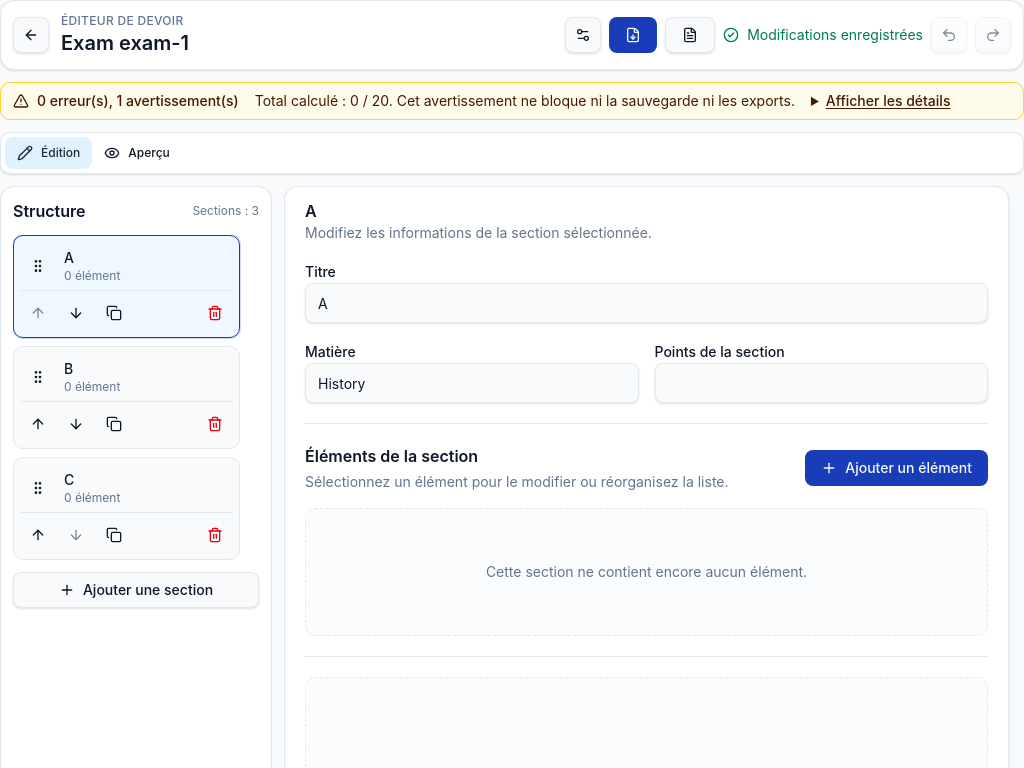
ExamBuilderPage › duplicates a section and keeps its title
Expected: the heading "Exam exam-1" is shown, [61,29,189,57]
Click the button named "Dupliquer A" at (114, 313), box [96,295,132,331]
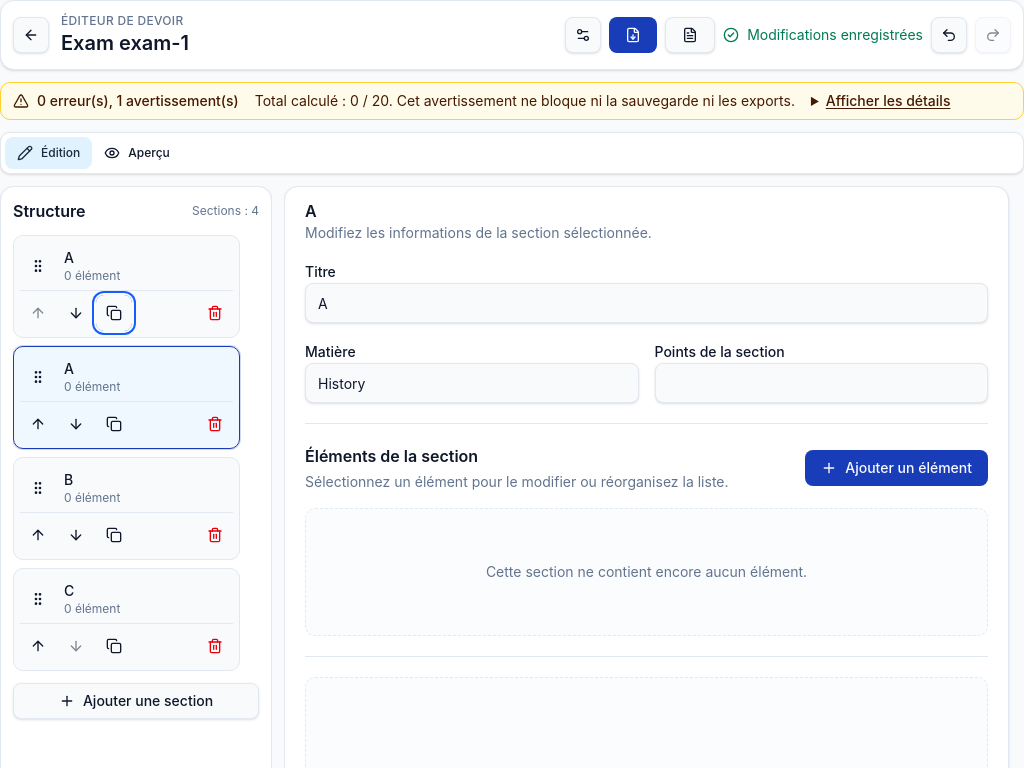
Expected: the field labelled "Titre" holds "A", [305,283,988,323]
Now the number of buttons "A 0 élément" is 2, box [60,242,233,290]; [60,353,233,401]
